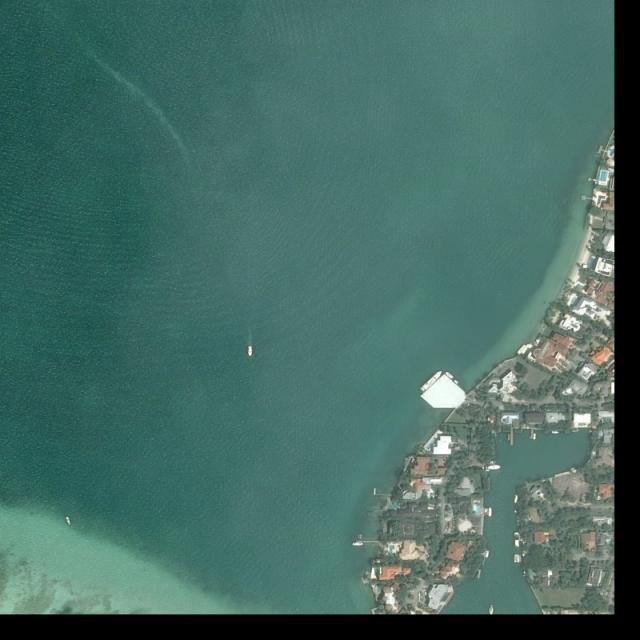ship: (419, 369, 444, 394), (444, 370, 455, 380), (485, 465, 502, 470), (351, 542, 365, 548), (65, 516, 73, 526), (512, 494, 519, 505), (488, 506, 494, 518), (247, 346, 253, 356), (485, 550, 490, 559), (453, 379, 460, 385), (489, 607, 494, 614), (552, 431, 558, 434), (533, 434, 536, 439), (570, 467, 575, 470)
